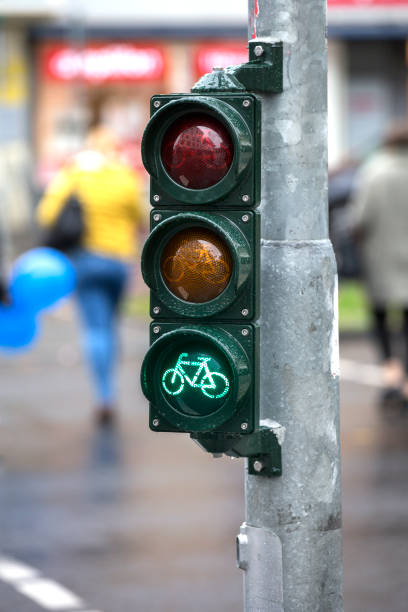trafficlight: (135, 89, 263, 440)
